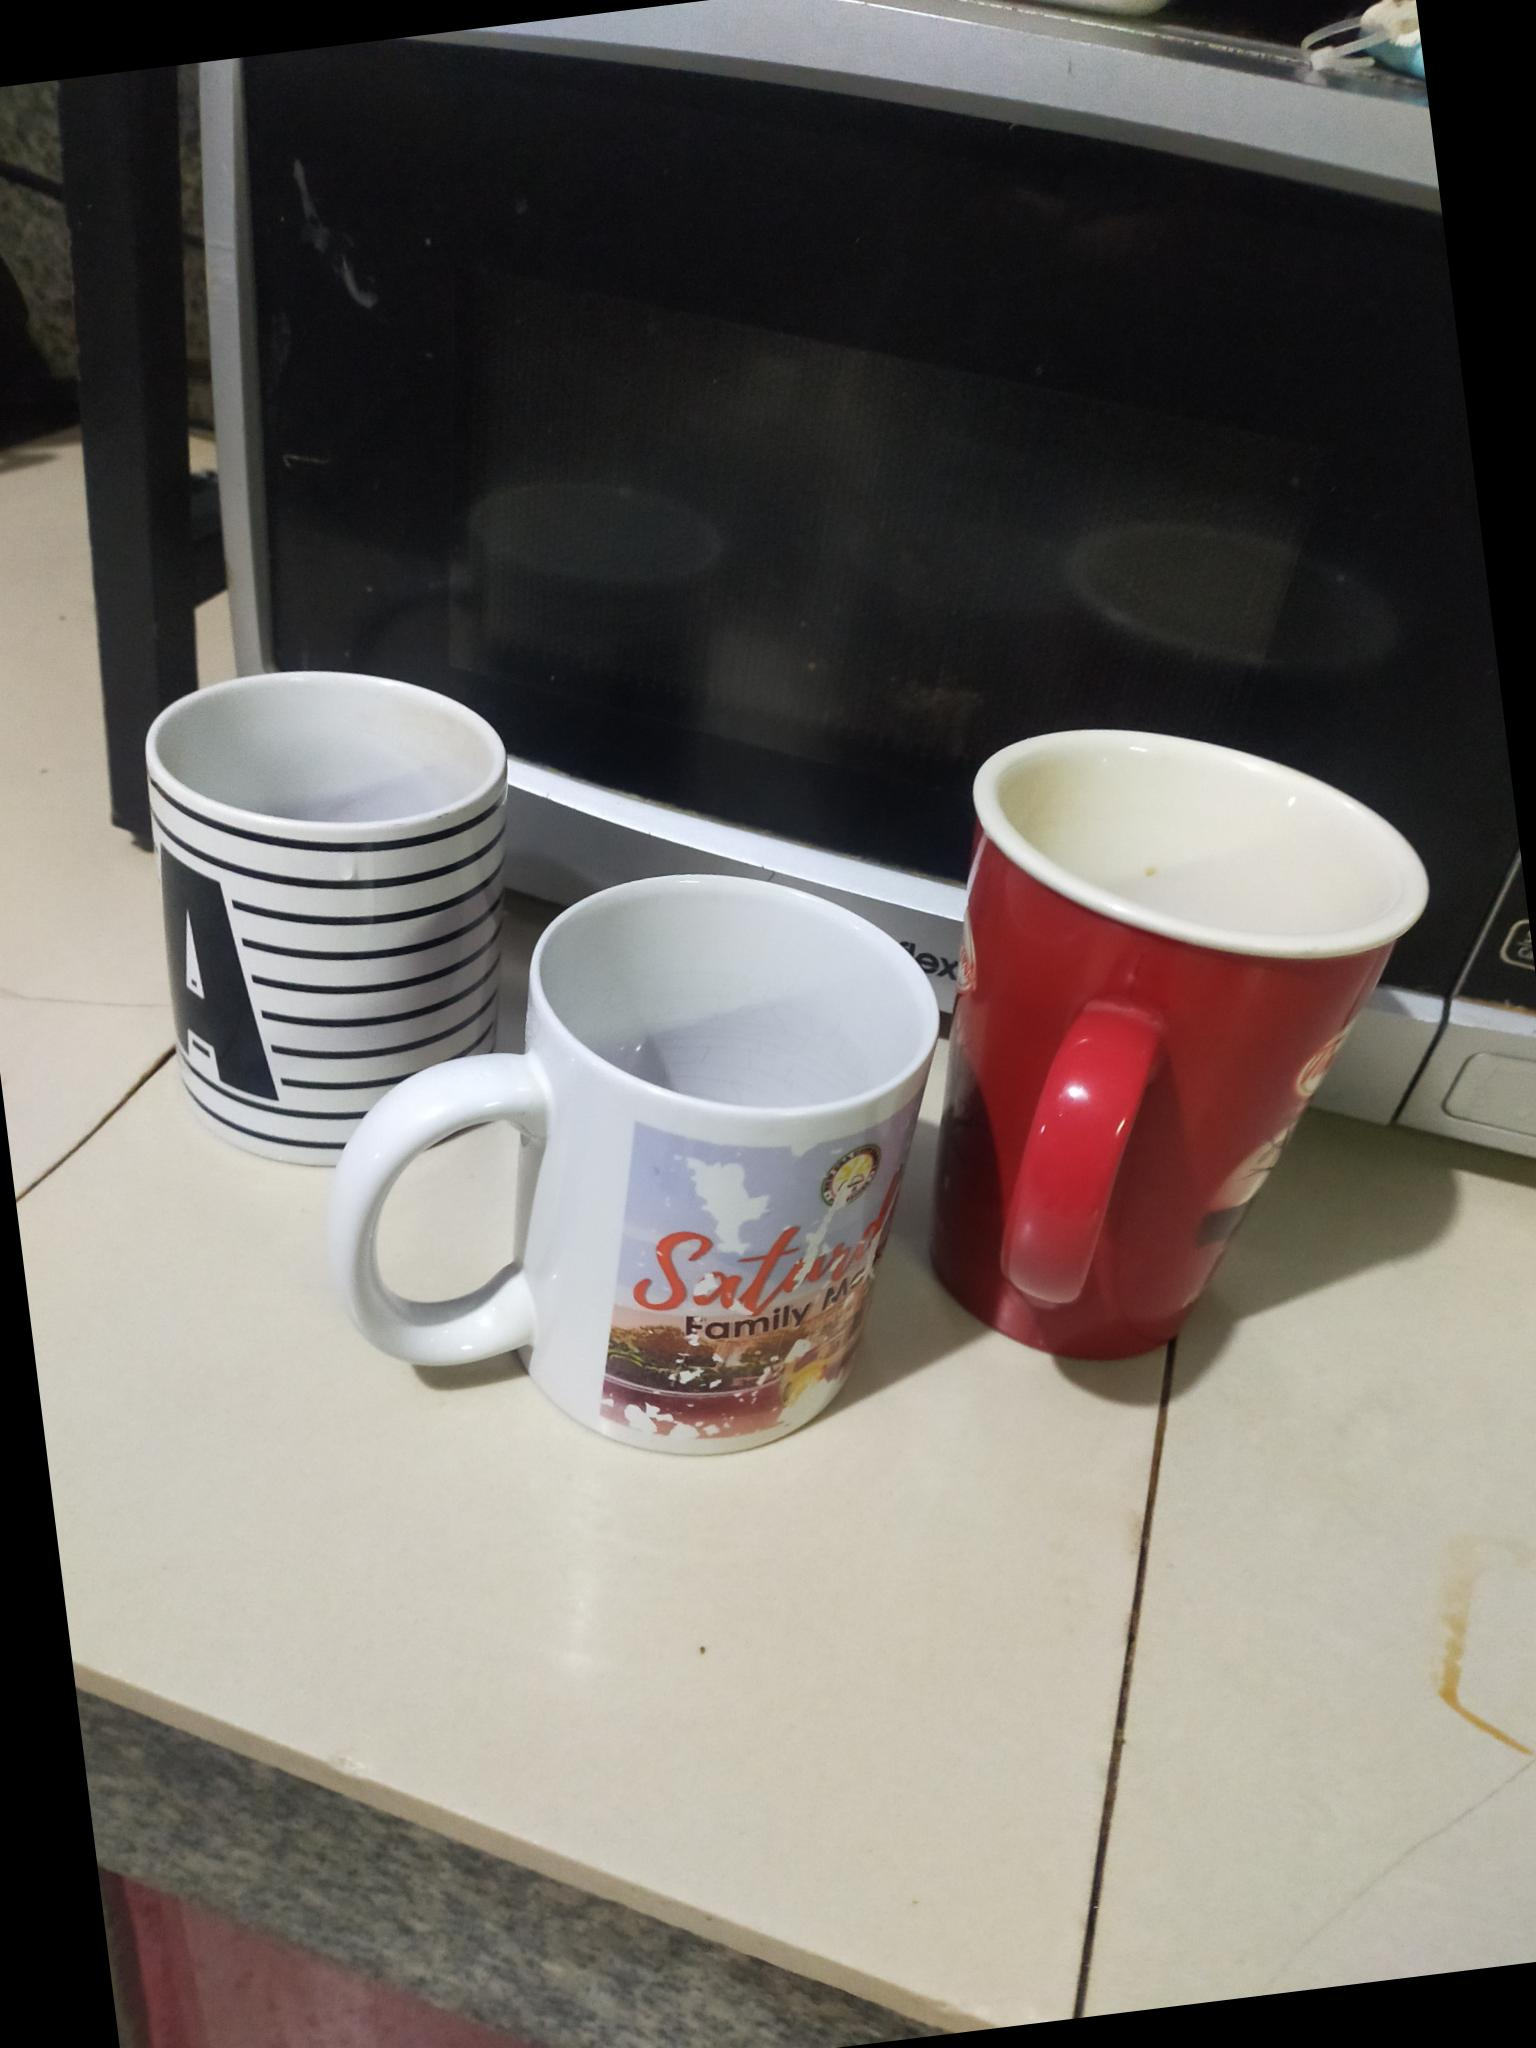Coffee Mug: (292, 850, 989, 1500), (874, 689, 1483, 1388), (139, 648, 549, 1176)
